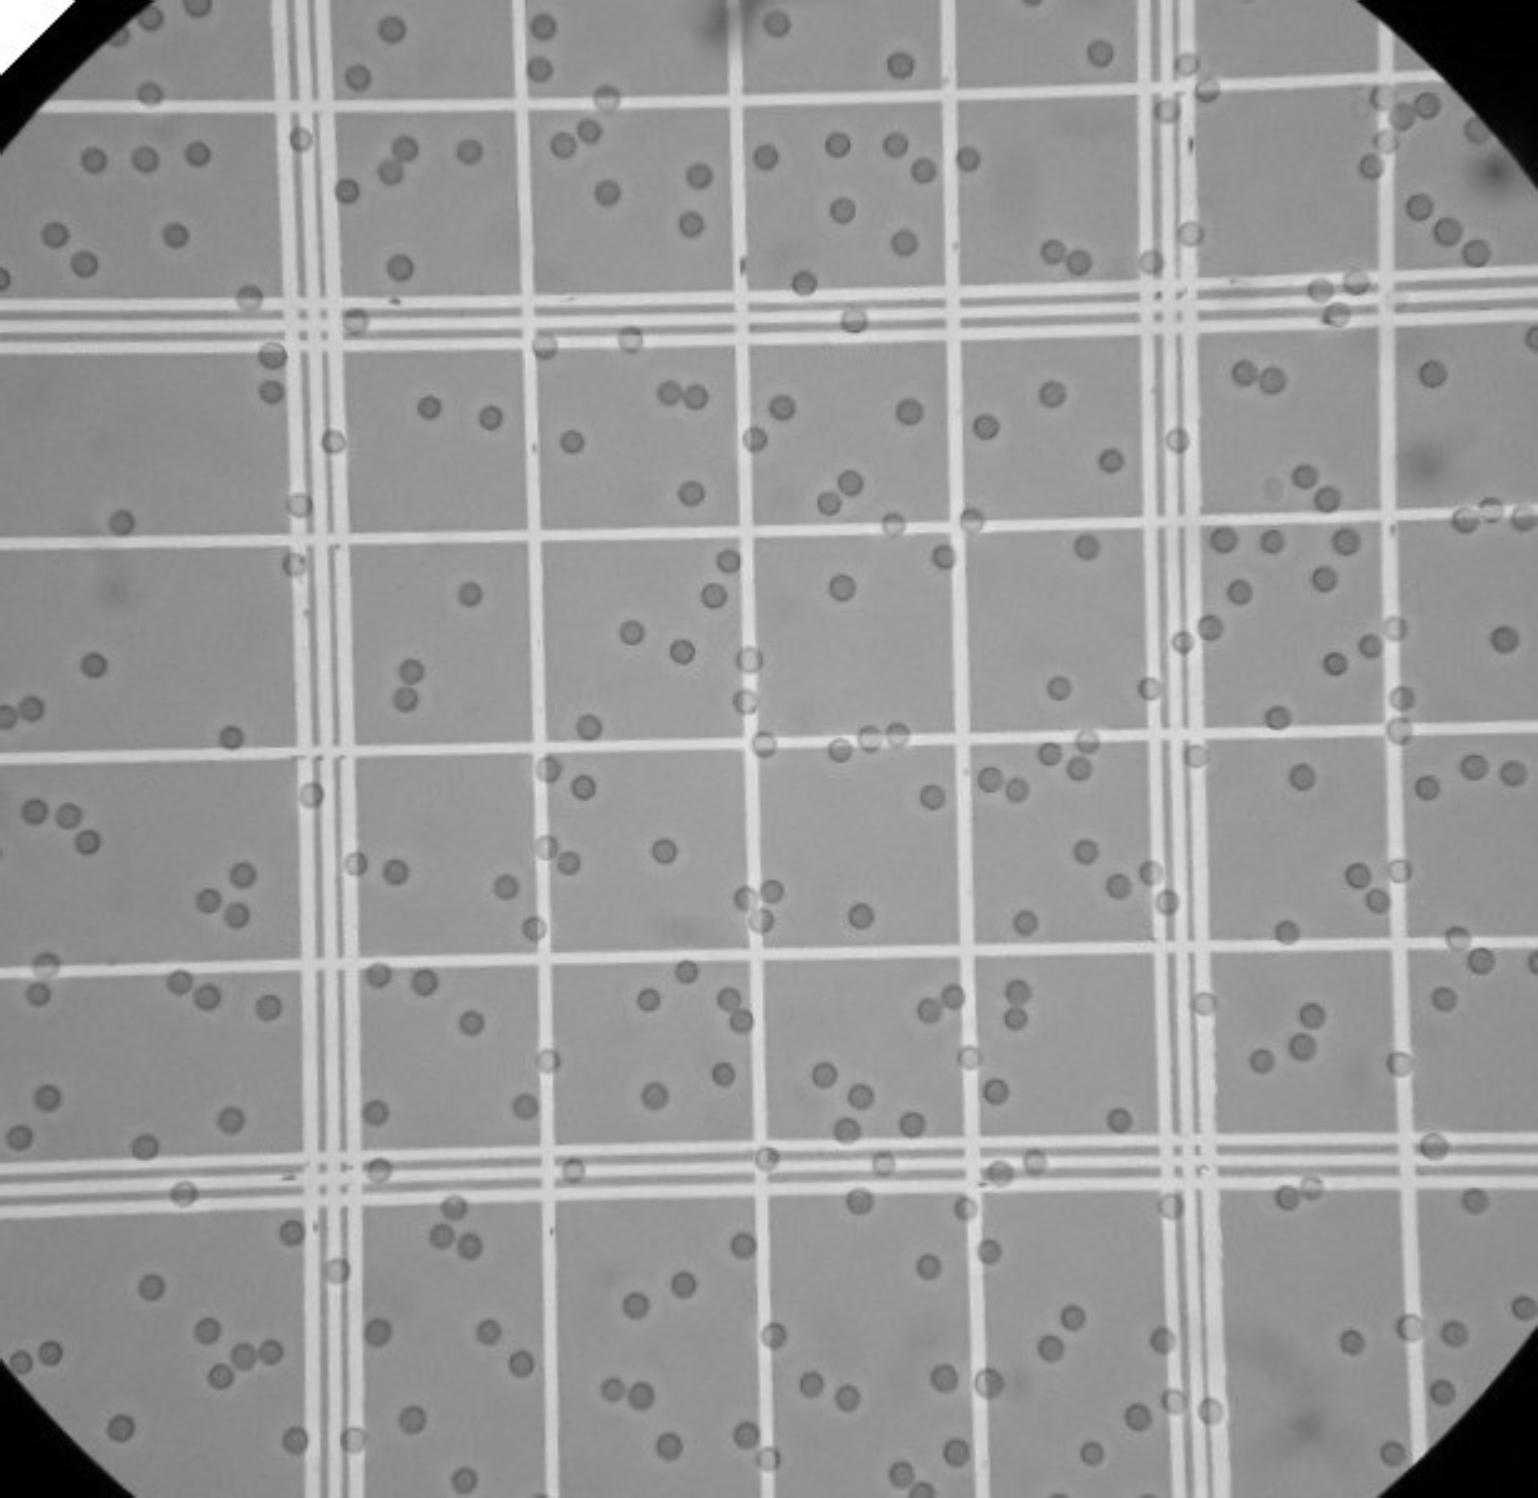cell: (628, 1380, 656, 1411), (971, 1369, 1002, 1398), (655, 1432, 685, 1461), (845, 1186, 875, 1215), (1397, 1313, 1427, 1341), (1460, 1185, 1489, 1215), (1458, 751, 1489, 780), (886, 49, 917, 77), (80, 147, 108, 176), (106, 1414, 135, 1443), (397, 1405, 426, 1433), (640, 1082, 669, 1111), (593, 85, 622, 114), (834, 1118, 862, 1146), (886, 1460, 915, 1488), (216, 1108, 246, 1136), (341, 1427, 371, 1454), (751, 730, 779, 761), (699, 582, 729, 610), (676, 479, 706, 507), (549, 130, 577, 161), (846, 1083, 876, 1111), (931, 1363, 959, 1394), (1420, 1134, 1450, 1162), (1289, 763, 1317, 794), (1490, 625, 1520, 652), (132, 1134, 161, 1162), (169, 1181, 198, 1208), (379, 16, 408, 44), (386, 253, 415, 280), (342, 308, 369, 336), (411, 969, 439, 997), (363, 1098, 390, 1127), (507, 1350, 536, 1377), (669, 1271, 698, 1299), (733, 688, 762, 715), (618, 324, 645, 353), (1149, 1326, 1178, 1354), (1468, 947, 1495, 976), (1322, 302, 1351, 330), (1420, 360, 1447, 389), (1509, 503, 1537, 531), (1414, 772, 1442, 800), (41, 222, 71, 249), (229, 862, 260, 888), (380, 860, 411, 886), (321, 1258, 352, 1284), (733, 1418, 759, 1449), (736, 645, 766, 671), (575, 118, 606, 144), (884, 719, 910, 750), (1311, 486, 1342, 512), (194, 1317, 221, 1344), (895, 398, 923, 426), (1072, 838, 1100, 865), (1387, 718, 1414, 746), (1332, 529, 1359, 556), (1462, 240, 1490, 268), (235, 286, 264, 312), (5, 1125, 34, 1151), (393, 687, 422, 713), (459, 1232, 485, 1260), (231, 1343, 257, 1372), (452, 1466, 478, 1495), (621, 1293, 650, 1320), (529, 14, 558, 40), (753, 141, 779, 170), (840, 308, 869, 334), (959, 507, 985, 535), (858, 724, 884, 752), (1197, 1396, 1224, 1425), (1232, 360, 1261, 386), (1441, 1320, 1469, 1346), (1451, 507, 1480, 533), (132, 147, 159, 173), (260, 342, 286, 369), (110, 509, 136, 537), (55, 802, 82, 828), (33, 953, 60, 979), (194, 984, 220, 1012), (194, 888, 221, 914), (34, 1085, 60, 1112), (255, 994, 282, 1022), (280, 1219, 306, 1247), (398, 656, 424, 684), (298, 781, 325, 807), (441, 1195, 468, 1221), (428, 1223, 456, 1249), (139, 1273, 166, 1299), (207, 1363, 235, 1390), (363, 1320, 390, 1346), (759, 1321, 785, 1348), (536, 757, 563, 783), (748, 908, 776, 934), (669, 638, 696, 665), (684, 383, 710, 411), (742, 426, 768, 453), (593, 180, 619, 207), (764, 10, 791, 36), (883, 132, 910, 158), (954, 146, 982, 172), (891, 231, 919, 257), (839, 470, 866, 496), (828, 573, 856, 599), (975, 1238, 1002, 1265), (835, 1384, 861, 1411), (1123, 1403, 1151, 1429), (1079, 1442, 1107, 1468), (1072, 533, 1100, 559), (974, 413, 1001, 439), (1197, 615, 1225, 641), (1380, 1440, 1408, 1466), (1339, 1329, 1366, 1355), (1288, 1033, 1316, 1059), (1431, 986, 1458, 1012), (1311, 567, 1338, 595), (1435, 218, 1462, 244), (391, 136, 420, 161), (1208, 526, 1237, 551), (1386, 1052, 1414, 1076), (1357, 634, 1386, 659), (1369, 84, 1398, 108), (1502, 758, 1527, 787), (1263, 706, 1294, 729), (217, 725, 243, 751), (163, 222, 190, 249), (71, 253, 97, 279), (282, 553, 308, 579), (19, 695, 45, 721), (21, 798, 47, 824), (345, 63, 371, 89), (288, 125, 314, 151), (378, 158, 404, 184), (459, 1011, 485, 1037), (651, 838, 677, 864), (575, 715, 601, 741), (733, 886, 759, 912), (759, 877, 785, 903), (619, 619, 645, 645), (687, 163, 713, 189), (678, 211, 704, 238), (770, 394, 796, 420), (910, 158, 937, 184), (880, 512, 906, 538), (920, 784, 946, 810), (849, 903, 875, 930), (1037, 1335, 1063, 1361), (1005, 979, 1031, 1005), (1040, 380, 1066, 406), (1040, 238, 1066, 264), (1164, 428, 1191, 454), (1250, 1048, 1276, 1074), (1430, 1380, 1456, 1406), (1511, 1293, 1537, 1320), (1299, 1002, 1325, 1028), (1445, 925, 1471, 952), (1384, 617, 1410, 643), (1342, 266, 1368, 292), (1414, 91, 1441, 117), (1479, 498, 1505, 525), (332, 178, 360, 203), (367, 961, 391, 989), (284, 1428, 309, 1455), (477, 1318, 501, 1346), (573, 774, 597, 802), (527, 58, 555, 82), (825, 132, 853, 157), (828, 196, 856, 221), (899, 1112, 927, 1137), (916, 1255, 943, 1280), (1156, 1193, 1184, 1218), (1046, 677, 1074, 702), (1262, 367, 1287, 394), (1274, 1184, 1299, 1211), (1299, 1174, 1324, 1201), (1322, 651, 1350, 676), (286, 494, 314, 518), (1184, 744, 1213, 768), (76, 831, 102, 855), (168, 968, 192, 994), (224, 903, 250, 928), (368, 1157, 393, 1184), (459, 139, 485, 163), (731, 1234, 757, 1259), (512, 1093, 538, 1118), (711, 1061, 736, 1087), (560, 430, 586, 454), (531, 334, 558, 358), (656, 380, 682, 405), (816, 492, 842, 516), (932, 544, 959, 568), (812, 1061, 836, 1087), (987, 1162, 1013, 1186), (1105, 1109, 1132, 1134), (985, 1081, 1011, 1105), (1105, 875, 1132, 899), (1075, 728, 1101, 752), (1137, 677, 1163, 702), (1089, 40, 1114, 66), (1180, 221, 1206, 246), (1228, 579, 1252, 606), (1344, 864, 1370, 888), (1390, 687, 1416, 711), (1307, 277, 1333, 302), (1388, 103, 1414, 128), (1408, 194, 1434, 218), (1002, 1006, 1030, 1030), (1138, 250, 1166, 273), (1191, 991, 1218, 1015), (1364, 891, 1391, 914), (1358, 152, 1386, 176), (260, 382, 284, 406), (477, 404, 501, 428), (343, 850, 368, 875), (757, 1146, 781, 1171), (494, 875, 519, 899), (828, 737, 853, 762), (917, 998, 942, 1023), (953, 1197, 978, 1222), (798, 1372, 823, 1396), (945, 1439, 969, 1464), (1061, 1307, 1086, 1332), (1099, 448, 1123, 472), (1067, 250, 1092, 275), (1195, 77, 1219, 102), (188, 141, 211, 168), (25, 983, 51, 1006), (38, 1341, 62, 1368), (563, 1159, 586, 1185), (729, 1008, 755, 1031), (523, 914, 547, 941), (536, 833, 559, 860), (1162, 1388, 1188, 1411), (1013, 910, 1037, 936), (1138, 860, 1162, 886), (1007, 779, 1030, 805), (1040, 741, 1063, 768), (1274, 921, 1300, 945), (1066, 757, 1093, 779), (137, 81, 162, 104), (321, 430, 346, 453), (419, 395, 442, 420), (459, 581, 482, 606), (537, 1049, 562, 1072), (792, 270, 816, 295), (872, 1151, 895, 1175), (1024, 1149, 1048, 1174), (1156, 890, 1180, 914), (978, 769, 1002, 792), (1175, 51, 1199, 76), (1387, 858, 1412, 881), (601, 1377, 623, 1403), (676, 958, 698, 984), (1373, 130, 1401, 151), (82, 654, 106, 677), (758, 1447, 781, 1471), (558, 851, 581, 875), (959, 1046, 982, 1070), (1261, 530, 1284, 553), (1292, 464, 1316, 487), (260, 1340, 282, 1365), (717, 551, 742, 573), (1156, 99, 1181, 121), (1170, 632, 1195, 654), (11, 1348, 32, 1374), (141, 10, 163, 33), (718, 987, 740, 1011), (942, 984, 965, 1006), (906, 1482, 937, 1498), (637, 989, 659, 1011), (1, 703, 16, 728)
